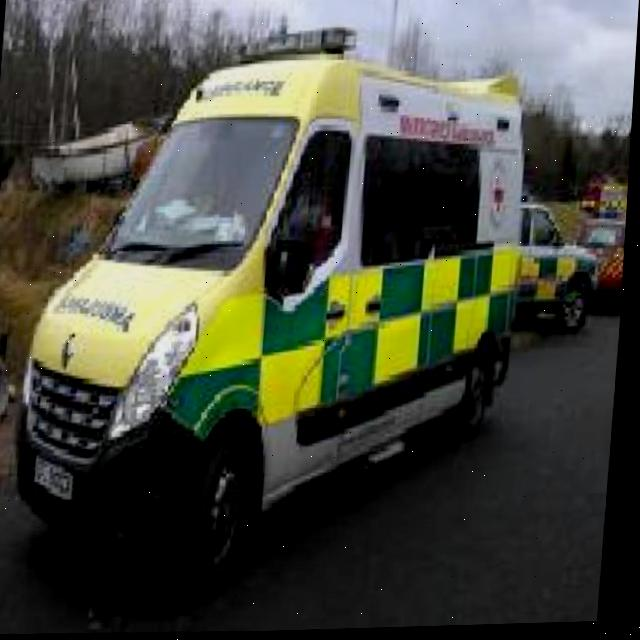emergency: (8, 18, 543, 600), (448, 189, 610, 344), (563, 217, 629, 320)
